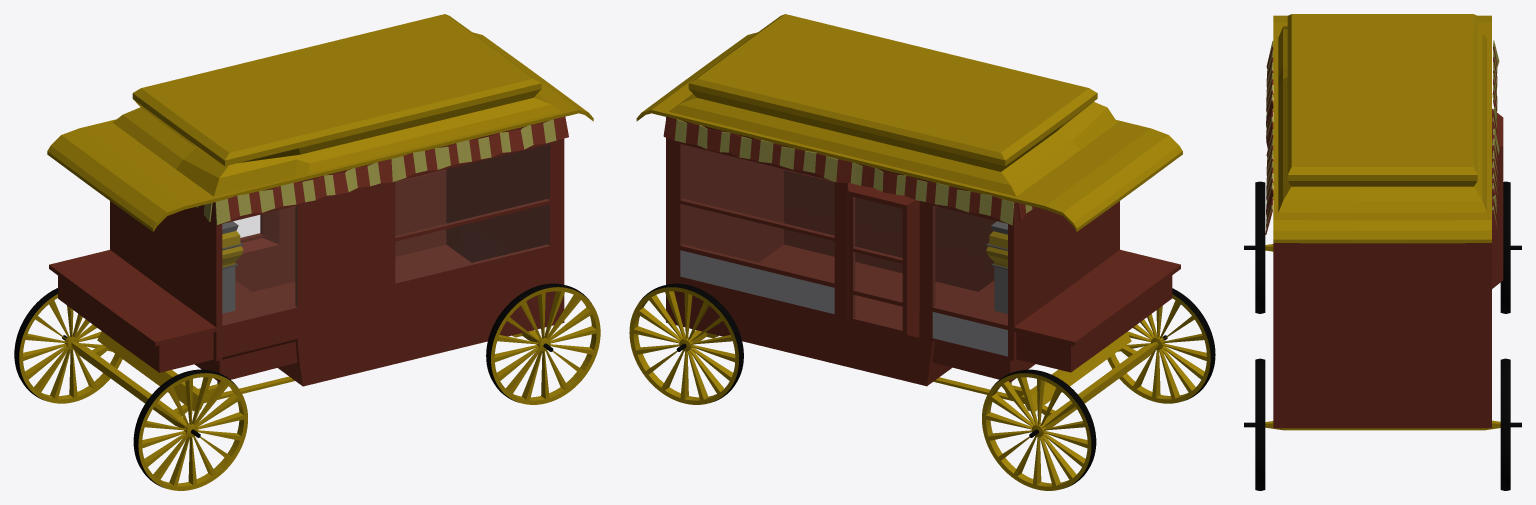
The model's file is PopcornCart_Proxy.fbx.
The picture shows the model from 3 angles, left to right: view 1: azimuth 30°, elevation 25°; view 2: azimuth 150°, elevation 25°; view 3: azimuth 270°, elevation 25°; orthographic projection. The views are drawn at different scales.
Visible parts, largest first — view 1: PopornCartBody, Banner_Left, Wheel_LF, Wheel_LR, Wheel_RF, UnderCarriage, PopcornMaker; view 2: PopornCartBody, Banner_Right, Wheel_RR, Wheel_RF, Wheel_LF, UnderCarriage, PopcornMaker; view 3: PopornCartBody, Wheel_LR, Wheel_RR, Wheel_LF, Banner_Left, Wheel_RF, Banner_Right, UnderCarriage.
Boxes of the visible parts, x1,y1,x2,y2 form: PopornCartBody: (47,14,593,386); Banner_Left: (215,116,568,224); Wheel_LF: (133,369,247,490); Wheel_LR: (486,283,600,404); Wheel_RF: (14,288,122,403); UnderCarriage: (71,330,539,428); PopcornMaker: (222,221,243,313); PopornCartBody: (636,14,1182,386); Banner_Right: (663,116,1014,225); Wheel_RR: (629,283,743,404); Wheel_RF: (982,369,1096,490); Wheel_LF: (1107,288,1215,403); UnderCarriage: (690,330,1157,428); PopcornMaker: (986,221,1007,313); PopornCartBody: (1273,14,1503,428); Wheel_LR: (1244,358,1267,490); Wheel_RR: (1500,358,1521,490); Wheel_LF: (1244,181,1266,313); Banner_Left: (1265,41,1273,234); Wheel_RF: (1500,181,1521,313); Banner_Right: (1492,40,1499,235); UnderCarriage: (1265,244,1500,430).
Bounding box in the file's own units: 414 × 265 × 208.
